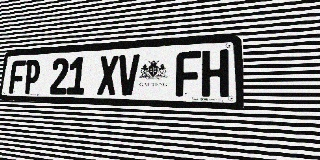1: (66, 57, 87, 95)
2: (50, 58, 69, 95)
F: (175, 51, 201, 97), (9, 60, 26, 94)
H: (201, 49, 229, 97)
P: (23, 59, 41, 94)
V: (117, 54, 140, 96)
X: (97, 55, 119, 95)
